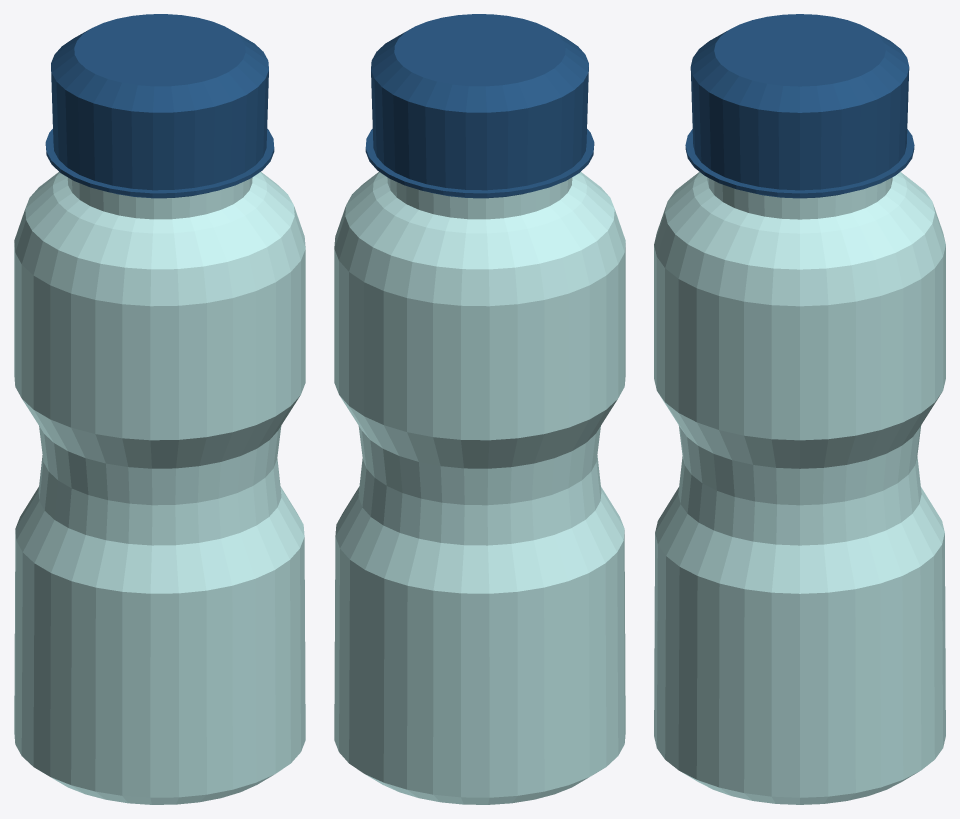
File: Bottle.fbx
The picture shows the model from 3 angles, left to right: view 1: azimuth 30°, elevation 25°; view 2: azimuth 150°, elevation 25°; view 3: azimuth 270°, elevation 25°; orthographic projection.
Visible parts, largest first — view 1: Cylinder; view 2: Cylinder; view 3: Cylinder.
Part boxes in pixels (x1=…): Cylinder: x1=14, y1=14, x2=305, y2=804; Cylinder: x1=334, y1=14, x2=625, y2=804; Cylinder: x1=654, y1=14, x2=945, y2=804.
Size of the model in its own units: 160 by 425 by 160.
